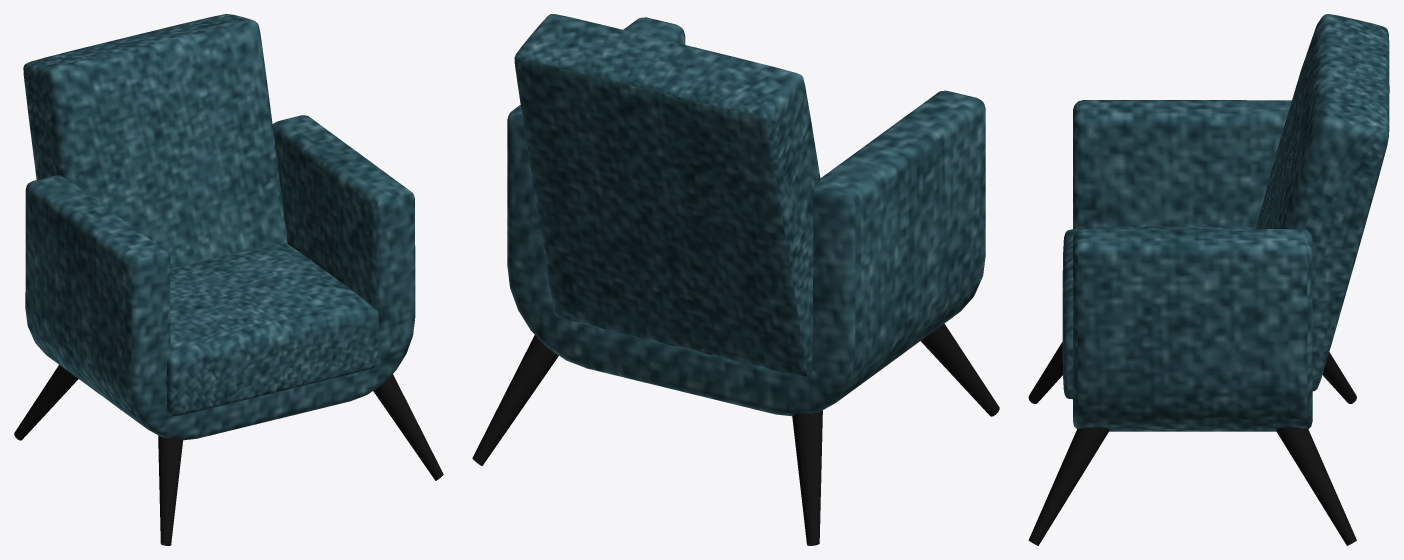
Rendered from Sofa.fbx.
3 renders of one model, left to right at view 1: azimuth 30°, elevation 25°; view 2: azimuth 150°, elevation 25°; view 3: azimuth 270°, elevation 25°, orthographic. The views are drawn at different scales.
Parts seen in each view (by area): view 1: Cylinder; view 2: Cylinder; view 3: Cylinder.
Boxes of the visible parts, bbox=[...] form: Cylinder: bbox=[14, 14, 443, 545]; Cylinder: bbox=[472, 14, 999, 545]; Cylinder: bbox=[1028, 14, 1389, 545].
Bounding box in the file's own units: 85.21 × 104 × 84.46.
2 materials, 1 textured.
